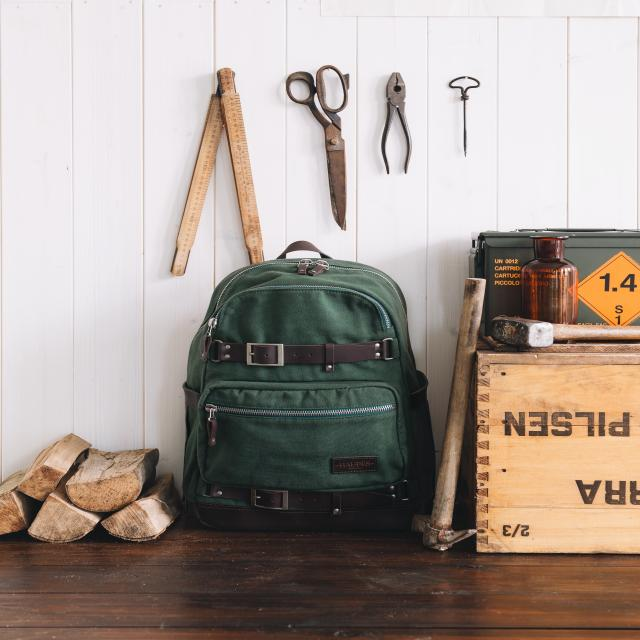backpack: (183, 240, 432, 526)
